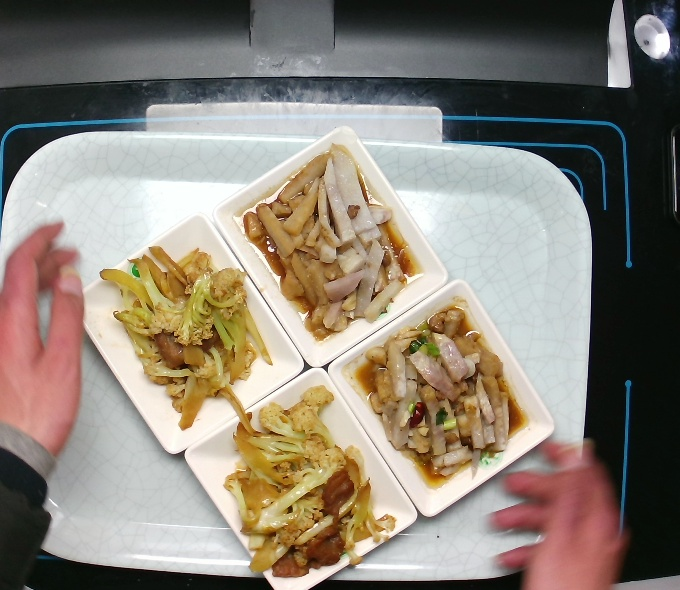wcq-QiuCaiChaoRou: (93, 232, 274, 435), (224, 388, 411, 574)
wcq-YuTou: (239, 139, 429, 340), (346, 297, 535, 489)
